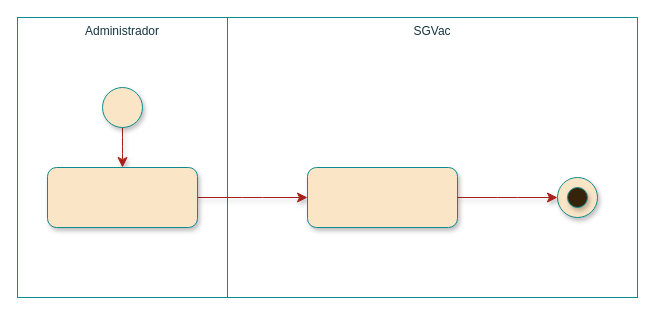
This 655x315 diagram has some shape labels left out. The centre of each missing label's shape, as x and y in pixels:
"Activa el postulante" goes at point 383,198.
"Elige la opción de activar un postulante" goes at point 123,198.
